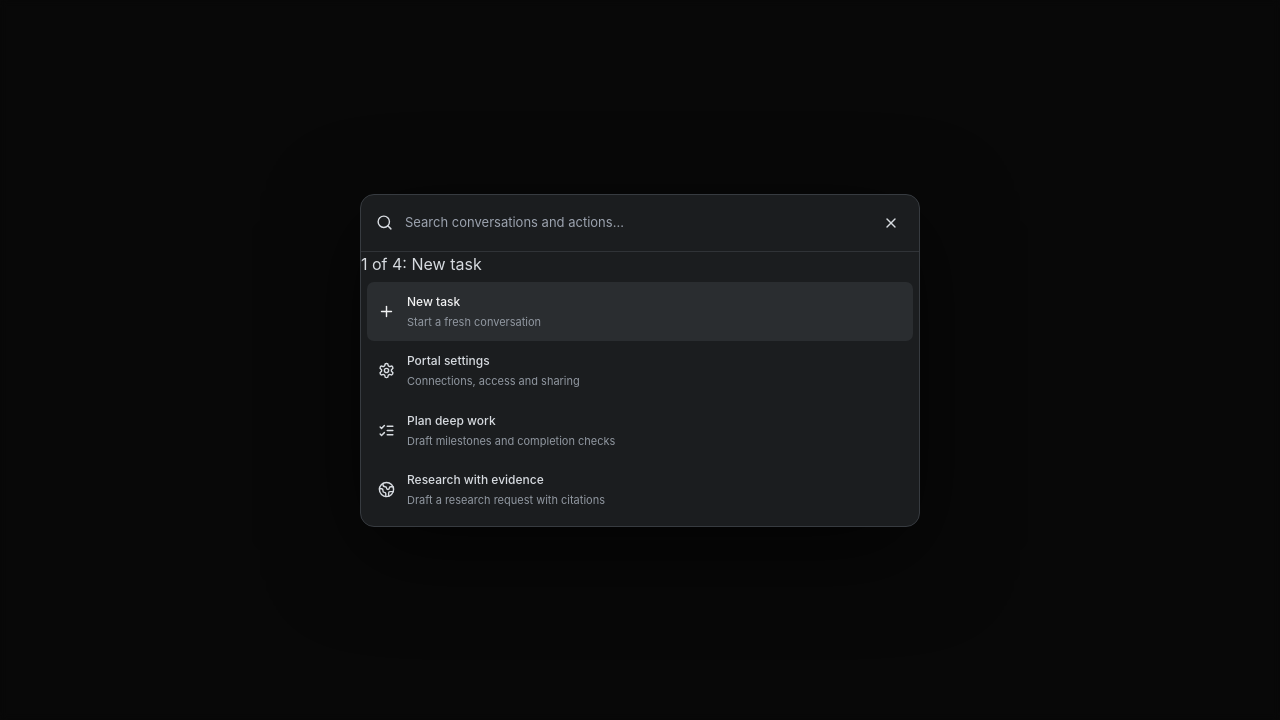
refreshes new saved results without clearing the open search query
In the field labelled "Search conversations and actions": point(636, 223) x1=405 y1=213 x2=866 y2=232, type "Newly saved"
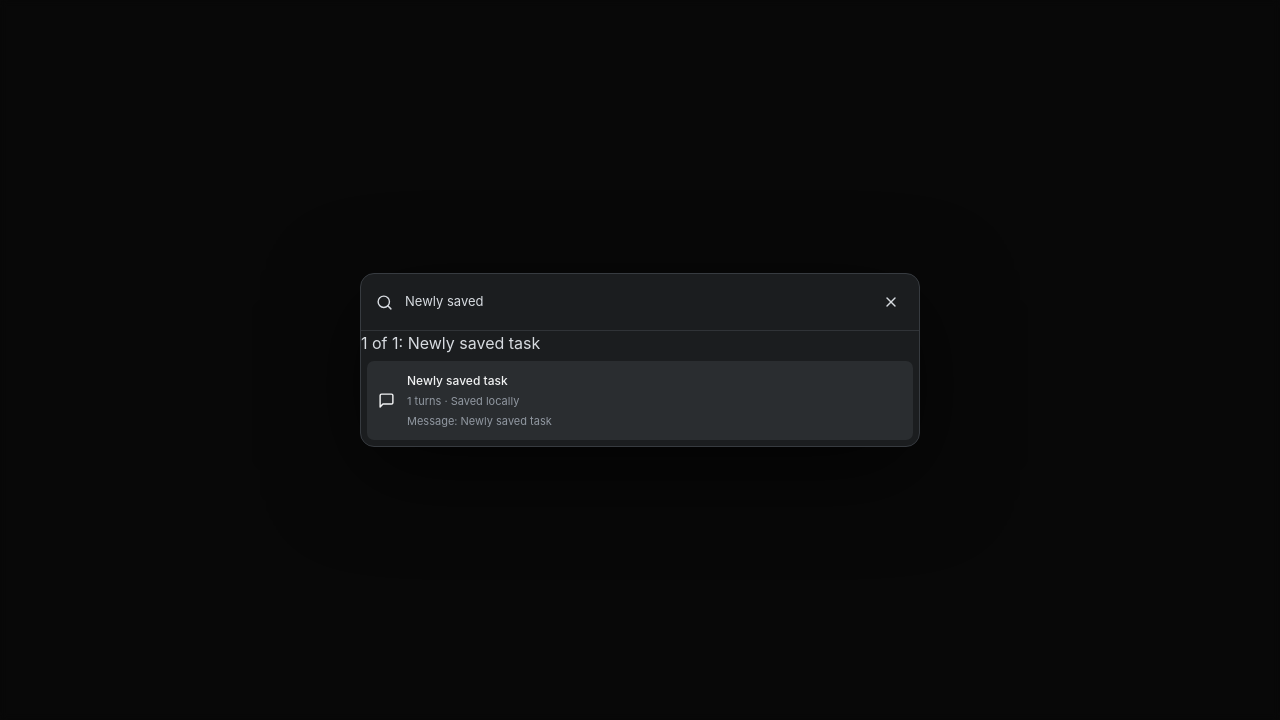
Check: the button "Newly saved task" is shown, box x1=367 y1=361 x2=913 y2=440
